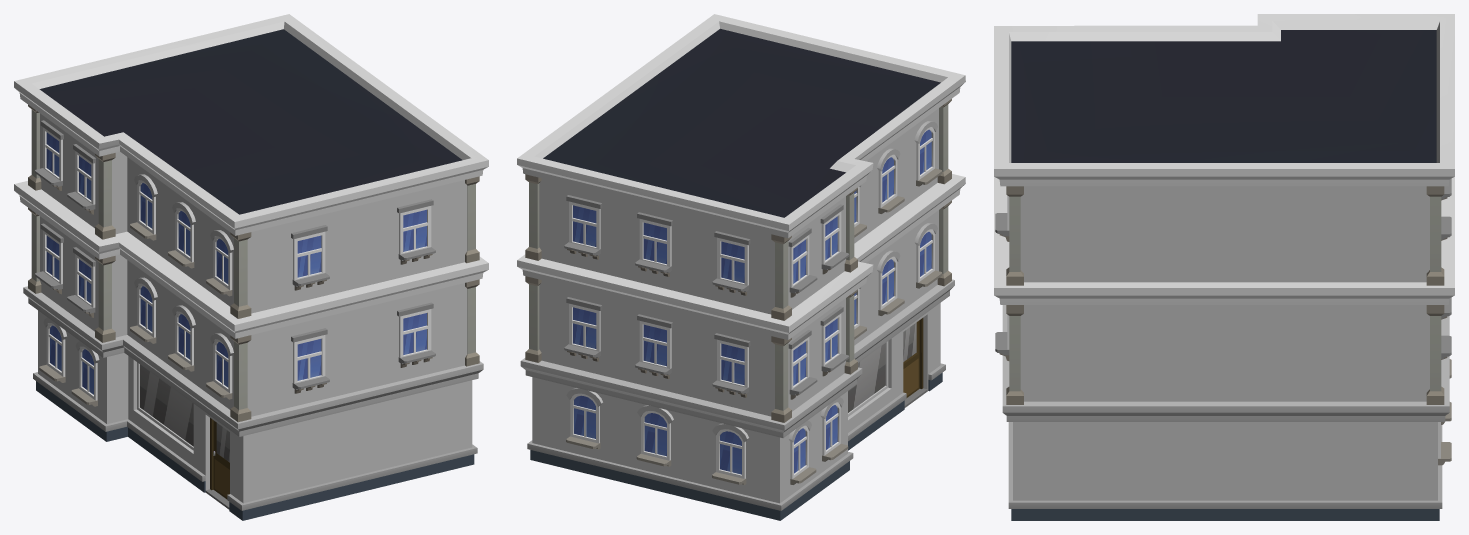
Rendered from Building_1_3_G.fbx.
3 views of the same model, side by side, from view 1: azimuth 30°, elevation 25°; view 2: azimuth 150°, elevation 25°; view 3: azimuth 270°, elevation 25° (orthographic). The views are drawn at different scales.
Visible parts, largest first — view 1: Building_1_3_G; view 2: Building_1_3_G; view 3: Building_1_3_G.
Boxes of the visible parts, bbox=[...] form: Building_1_3_G: bbox=[14, 14, 488, 520]; Building_1_3_G: bbox=[517, 14, 965, 520]; Building_1_3_G: bbox=[994, 14, 1454, 520].
Bounding box in the file's own units: 841 × 900 × 1057.
